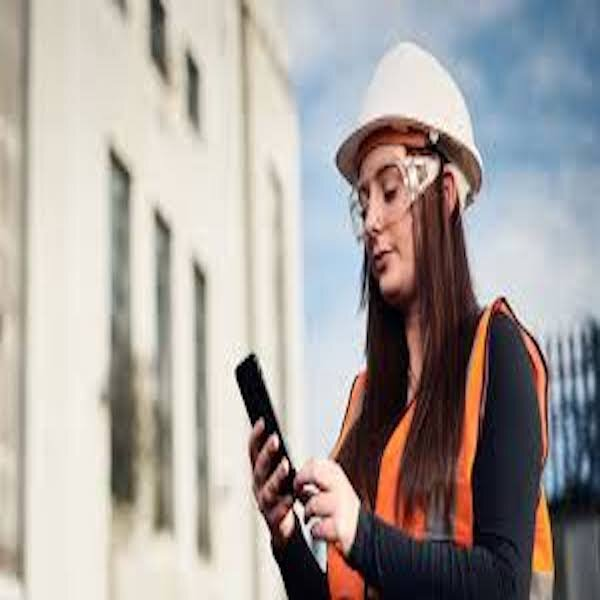helmet: (318, 44, 489, 164)
vest: (325, 299, 550, 600)
